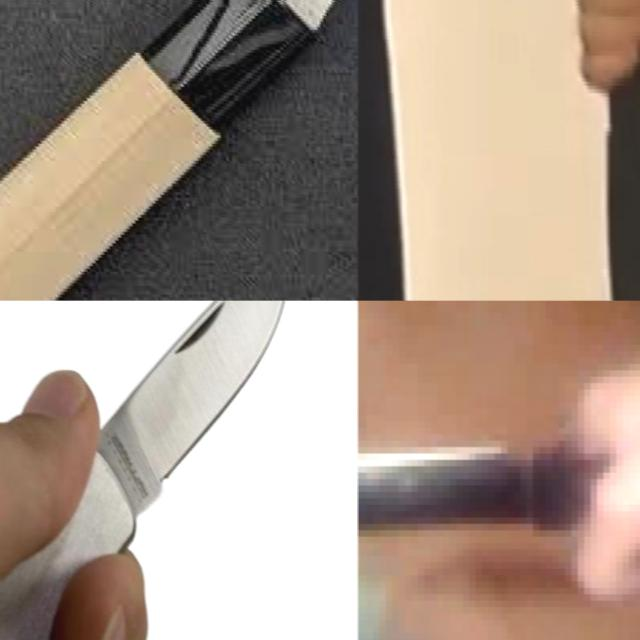Knife: (0, 300, 284, 640), (598, 0, 640, 300)
Knife_Handle: (0, 300, 328, 640), (358, 312, 640, 600), (573, 0, 640, 300)
